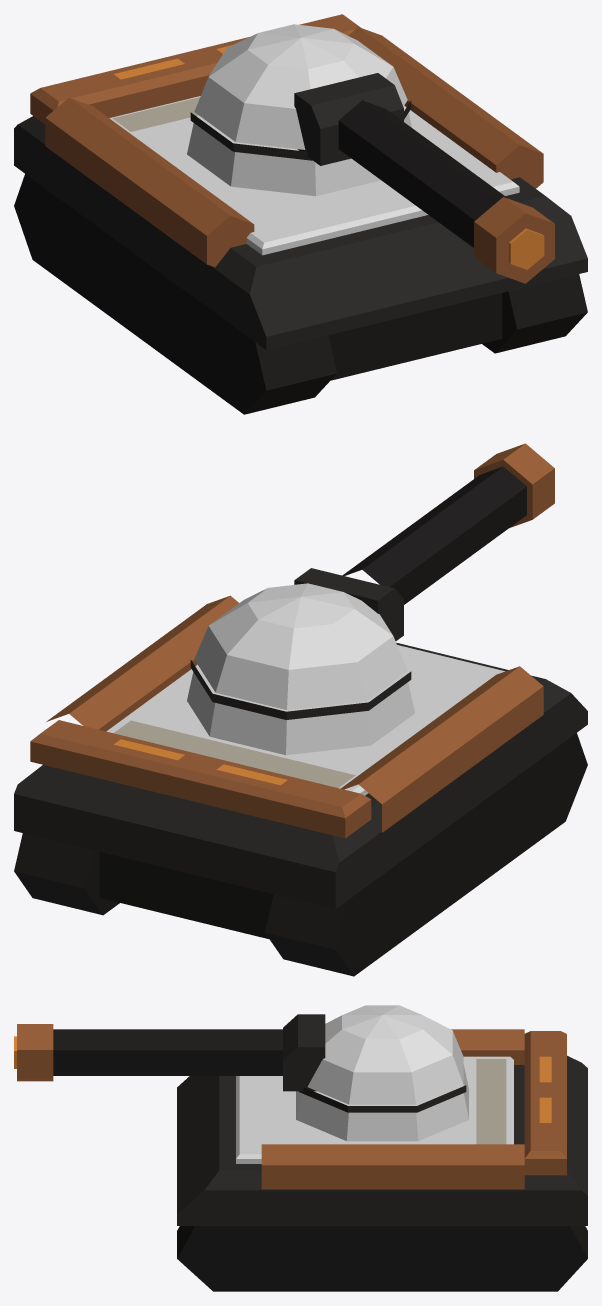
Rendered from lnd_t1_tank.b12c2dc2.raw.glb.
3 views of the same model, one above another, from view 1: azimuth 30°, elevation 25°; view 2: azimuth 150°, elevation 25°; view 3: azimuth 270°, elevation 25° (orthographic). The views are drawn at different scales.
Parts seen in each view (by area): view 1: lod0; view 2: lod0; view 3: lod0.
Part boxes in pixels (x1,y1,x2,y2): lod0: (14, 14, 587, 414); lod0: (14, 443, 587, 976); lod0: (14, 1005, 587, 1291).
Size of what is drawn, in the model's own units: 1.05 by 0.778 by 1.9.
